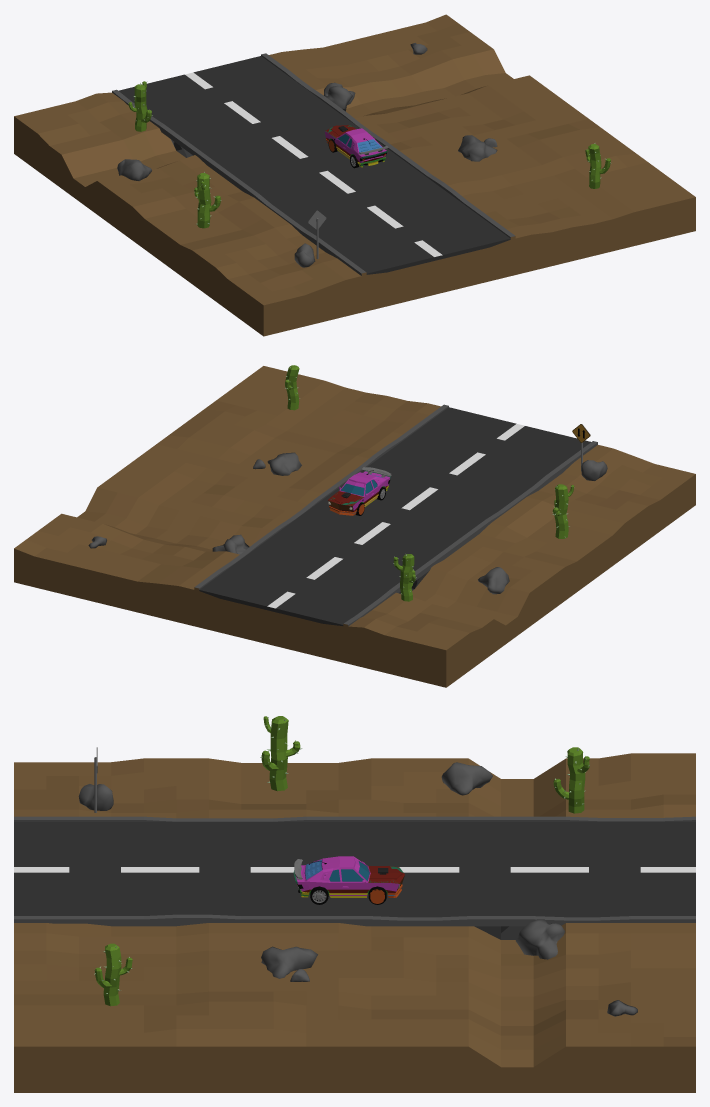
File: carfinal.glb
3 views of the same model, one above another, from view 1: azimuth 30°, elevation 25°; view 2: azimuth 150°, elevation 25°; view 3: azimuth 270°, elevation 25° (orthographic). The views are drawn at different scales.
Visible parts, largest first — view 1: Ground, Car_core_upper; view 2: Ground, Car_core_upper; view 3: Ground, Car_core_upper.
Part boxes in pixels (x1,y1,x2,y2): Ground: [14, 14, 695, 336]; Car_core_upper: [324, 128, 386, 162]; Ground: [14, 365, 695, 687]; Car_core_upper: [338, 471, 390, 510]; Ground: [14, 716, 695, 1092]; Car_core_upper: [296, 856, 399, 891].
Bounding box in the file's own units: 50.92 × 9.33 × 50.92.
